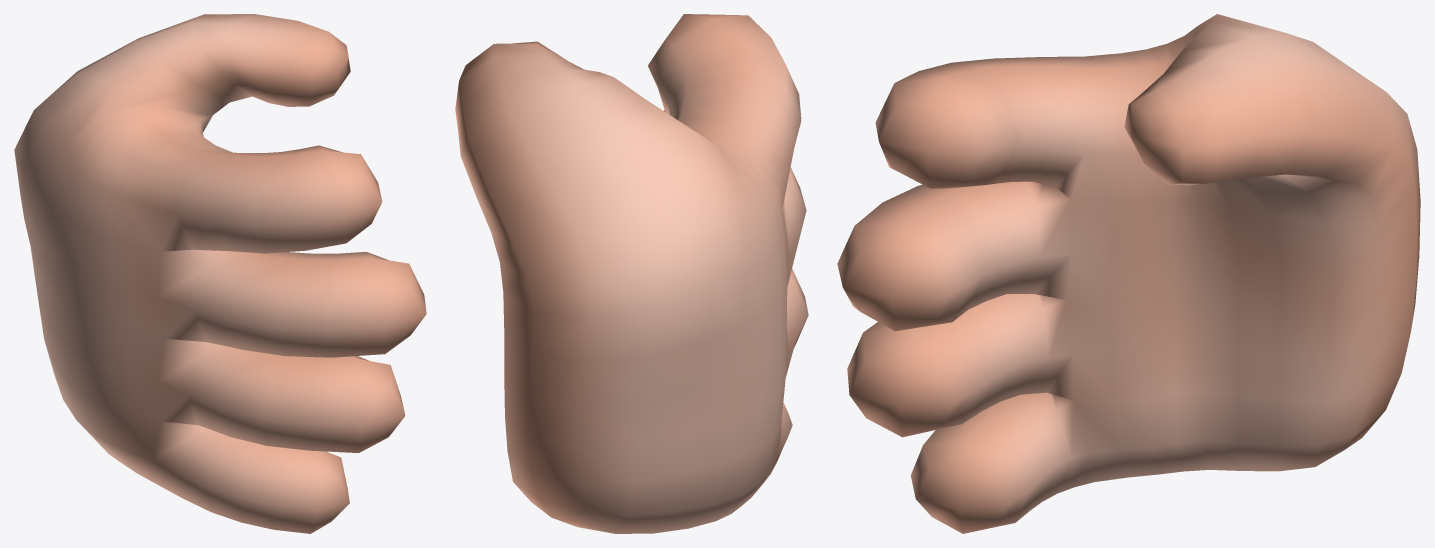
File: RightHand.fbx
3 views of the same model, side by side, from view 1: azimuth 30°, elevation 25°; view 2: azimuth 150°, elevation 25°; view 3: azimuth 270°, elevation 25° (orthographic). The views are drawn at different scales.
Visible parts, largest first — view 1: RightHand; view 2: RightHand; view 3: RightHand.
Boxes of the visible parts, bbox=[...] form: RightHand: bbox=[14, 14, 426, 533]; RightHand: bbox=[455, 14, 808, 533]; RightHand: bbox=[837, 14, 1420, 533].
Bounding box in the file's own units: 21.77 × 30.73 × 32.68.
